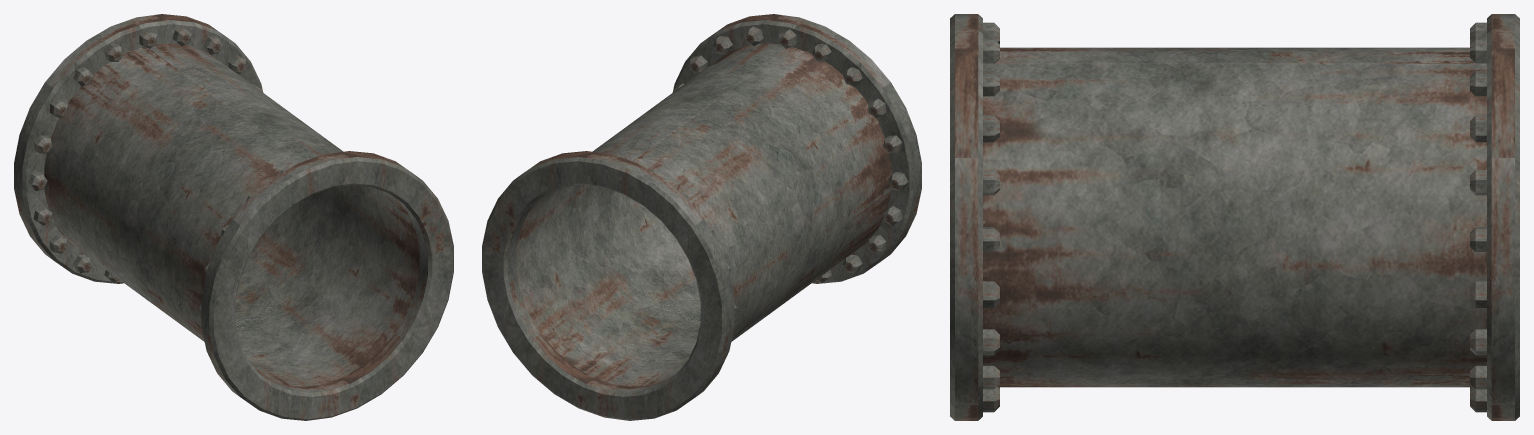
Rendered from pipe-I.fbx.
3 renders of one model, left to right at view 1: azimuth 30°, elevation 25°; view 2: azimuth 150°, elevation 25°; view 3: azimuth 270°, elevation 25°, orthographic. The views are drawn at different scales.
Visible parts, largest first — view 1: Cylinder_1_2, Tube; view 2: Cylinder_1_2, Tube; view 3: Cylinder_1_2, Tube, Cylinder_18, Cylinder_15, Cylinder_14, Cylinder_19, Cylinder_17, Cylinder_16, Cylinder_0, Cylinder_13, Cylinder_12, Cylinder_1.
Boxes of the visible parts, x1,y1,x2,y2 form: Cylinder_1_2: (44, 43, 419, 386); Tube: (14, 14, 453, 420); Cylinder_1_2: (516, 43, 891, 386); Tube: (482, 14, 921, 420); Cylinder_1_2: (983, 47, 1486, 387); Tube: (950, 14, 1519, 420); Cylinder_18: (983, 115, 1486, 142); Cylinder_15: (983, 281, 1486, 307); Cylinder_14: (983, 329, 1486, 355); Cylinder_19: (983, 71, 1486, 96); Cylinder_17: (983, 170, 1486, 195); Cylinder_16: (983, 227, 1486, 251); Cylinder_0: (983, 39, 1486, 63); Cylinder_13: (983, 365, 1486, 389); Cylinder_12: (983, 387, 1486, 410); Cylinder_1: (983, 22, 1486, 43).
Bounding box in the file's own units: 143 × 144 × 202.
Materials: 1 (1 with a texture image).
